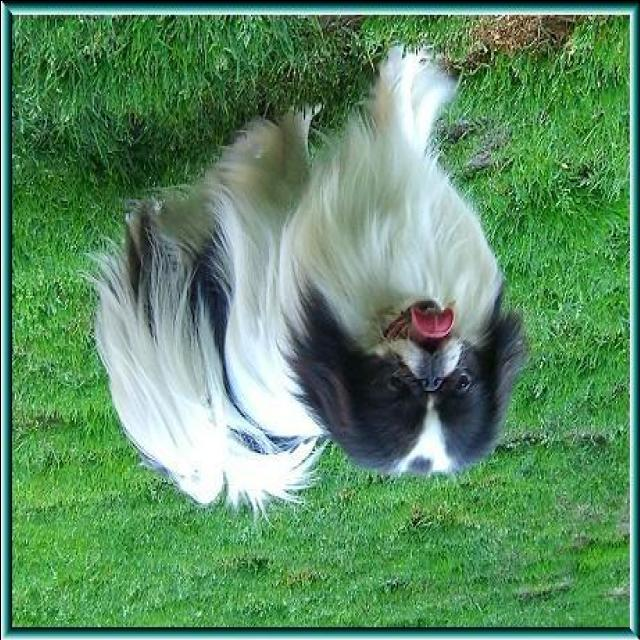husky: (90, 46, 533, 528)
